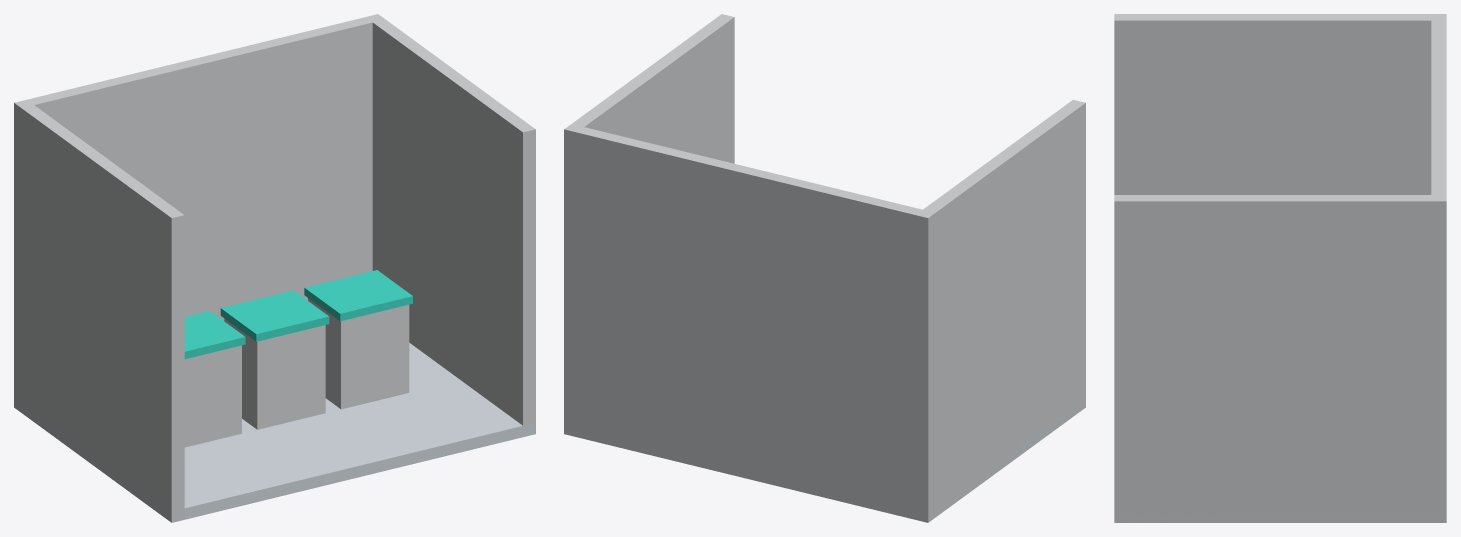
The picture shows the model from 3 angles, left to right: view 1: azimuth 30°, elevation 25°; view 2: azimuth 150°, elevation 25°; view 3: azimuth 270°, elevation 25°; orthographic projection. The views are drawn at different scales.
Visible parts, largest first — view 1: Exhibition Booth Concept; view 2: Exhibition Booth Concept; view 3: Exhibition Booth Concept.
Part boxes in pixels (x1,y1,x2,y2): Exhibition Booth Concept: [14, 14, 535, 522]; Exhibition Booth Concept: [564, 14, 1085, 522]; Exhibition Booth Concept: [1114, 14, 1446, 522].
Bounding box in the file's own units: 4 × 3.2 × 3.
